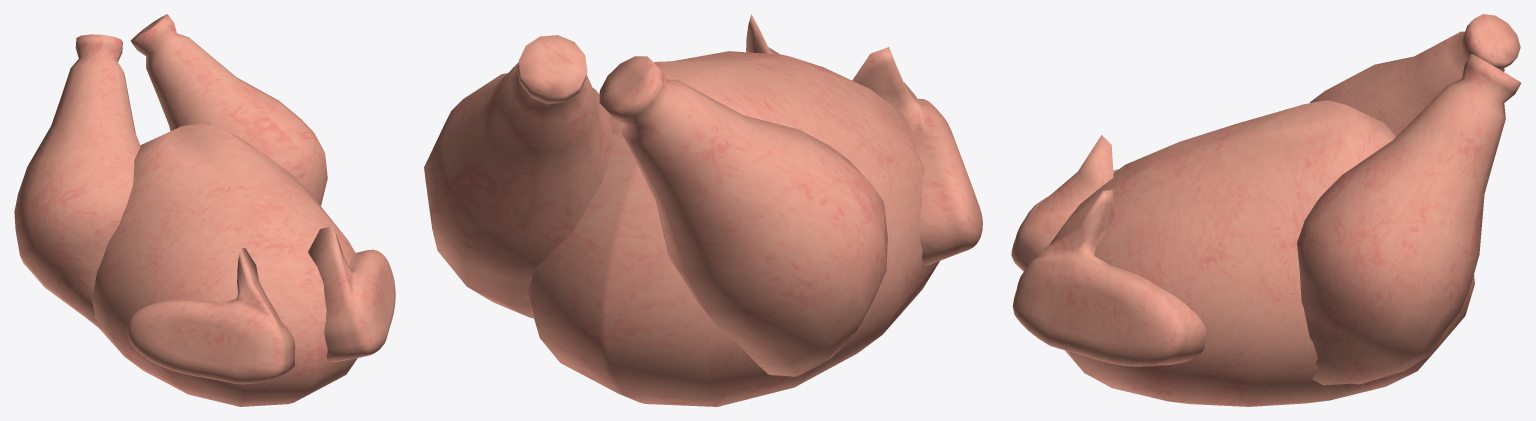
The model's file is Chicken_Whole Raw(1).glb.
3 renders of one model, left to right at view 1: azimuth 30°, elevation 25°; view 2: azimuth 150°, elevation 25°; view 3: azimuth 270°, elevation 25°, orthographic. The views are drawn at different scales.
Visible parts, largest first — view 1: Chicken Raw; view 2: Chicken Raw; view 3: Chicken Raw.
Part boxes in pixels (left/top/right/bottom): Chicken Raw: left=14, top=14, right=395, bottom=406; Chicken Raw: left=424, top=14, right=982, bottom=406; Chicken Raw: left=1011, top=14, right=1521, bottom=406.
Size of the model in its own units: 0.9056 by 0.8188 by 1.1.
1 material, 1 textured.
